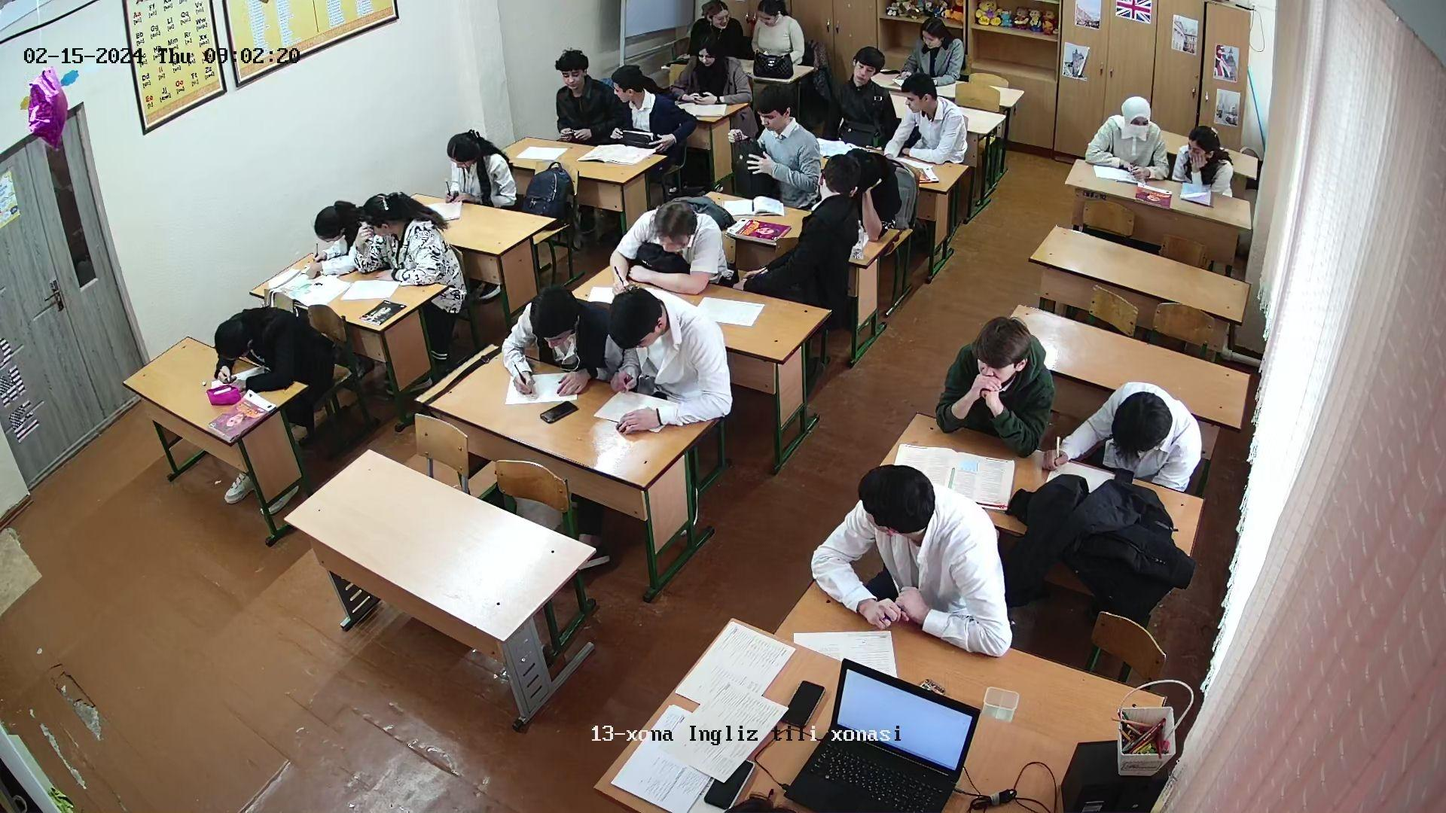Bend Over The Desk: (204, 302, 312, 411)
Look Around: (839, 477, 1006, 650), (358, 191, 440, 292), (610, 67, 675, 148), (1109, 85, 1164, 178), (810, 157, 860, 224), (751, 0, 803, 63), (692, 0, 745, 56), (1181, 125, 1219, 174)
Normal: (610, 288, 726, 443), (943, 312, 1048, 452), (497, 277, 607, 403), (1085, 384, 1197, 500), (600, 199, 728, 297), (438, 130, 516, 224), (540, 47, 605, 144), (306, 197, 352, 278), (907, 17, 963, 80)
phone: (683, 81, 723, 108)
